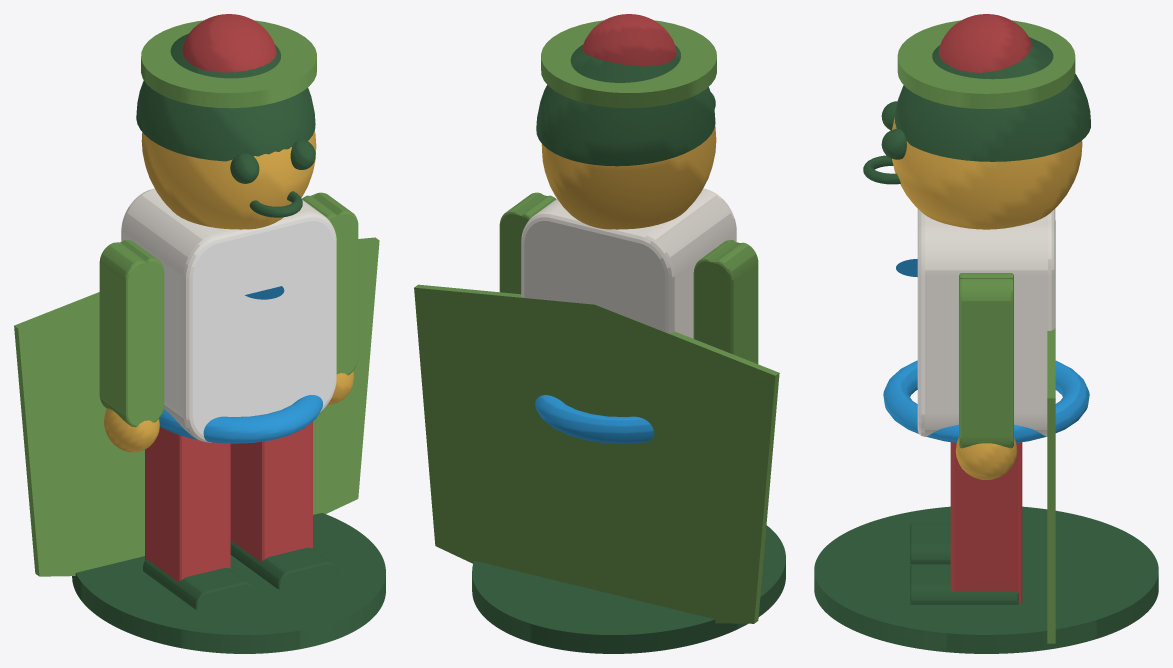
File: 1110_左传_公子目夷.glb
The picture shows the model from 3 angles, left to right: view 1: azimuth 30°, elevation 25°; view 2: azimuth 150°, elevation 25°; view 3: azimuth 270°, elevation 25°; orthographic projection.
Parts seen in each view (by area): view 1: card_1110; view 2: card_1110; view 3: card_1110.
Boxes of the visible parts, bbox=[...] form: card_1110: bbox=[14, 14, 385, 653]; card_1110: bbox=[414, 14, 785, 653]; card_1110: bbox=[814, 14, 1158, 653].
Size of the model in its own units: 0.6553 by 1 by 0.536.
